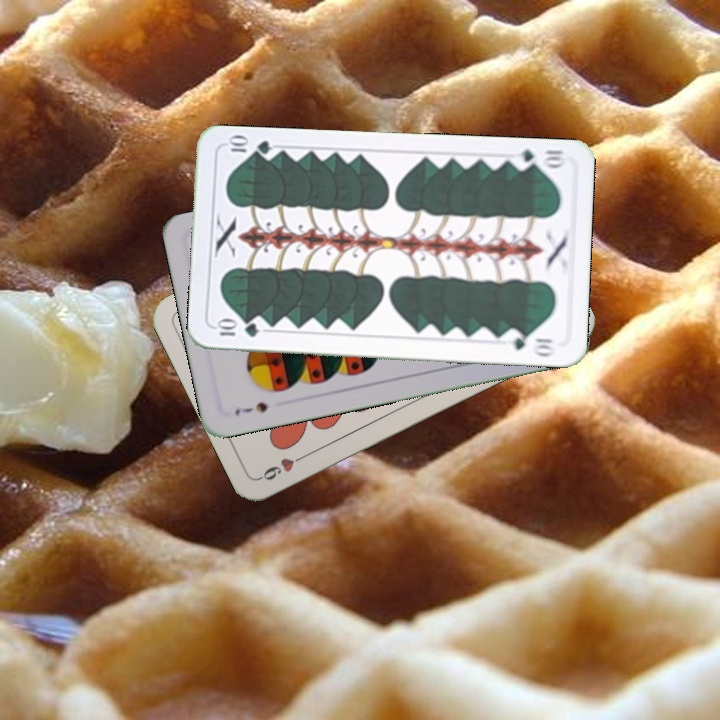G10: (509, 145, 568, 172), (213, 318, 262, 340)
H9: (256, 449, 311, 483)
S7: (230, 398, 271, 418)
